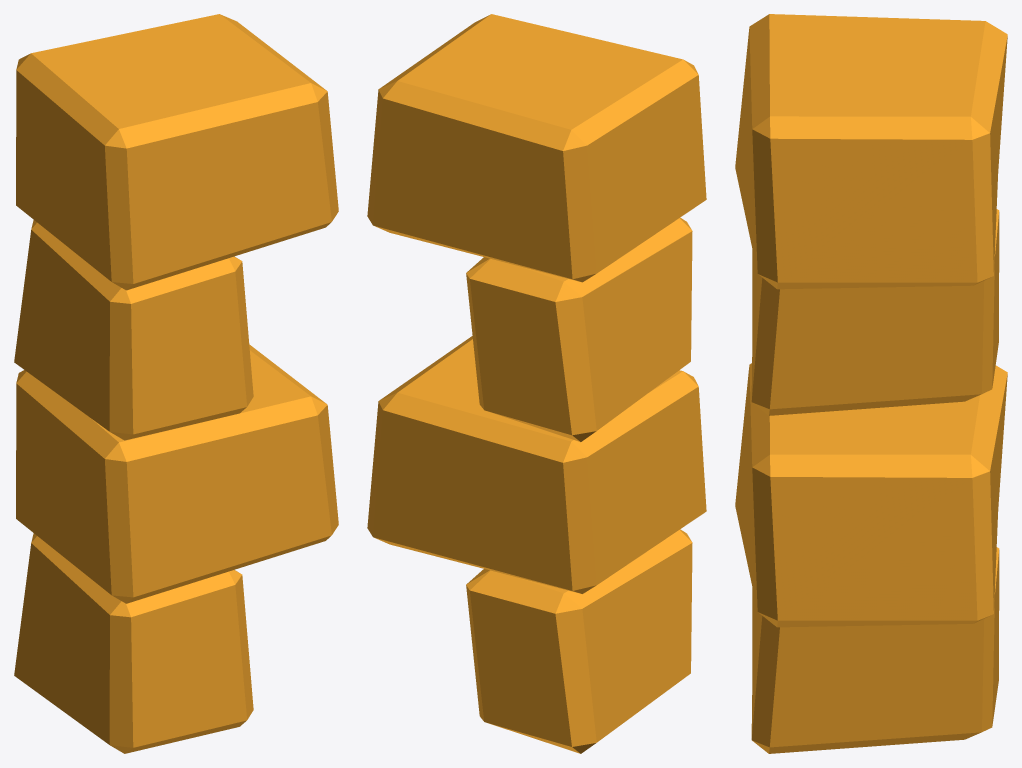
Rendered from SM_Crenelations_End_Fantasy.fbx.
3 renders of one model, left to right at view 1: azimuth 30°, elevation 25°; view 2: azimuth 150°, elevation 25°; view 3: azimuth 270°, elevation 25°, orthographic. The views are drawn at different scales.
Visible parts, largest first — view 1: SM_Crenelations_End_Fantasy; view 2: SM_Crenelations_End_Fantasy; view 3: SM_Crenelations_End_Fantasy.
Boxes of the visible parts, x1,y1,x2,y2 form: SM_Crenelations_End_Fantasy: [14, 14, 338, 753]; SM_Crenelations_End_Fantasy: [367, 14, 706, 753]; SM_Crenelations_End_Fantasy: [735, 14, 1007, 753].
Bounding box in the file's own units: 0.6621 × 1.66 × 0.6057.
